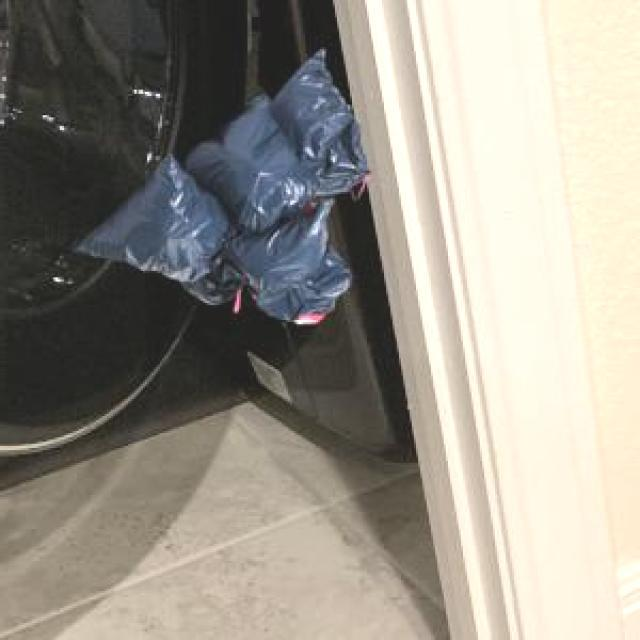Trashbag: (229, 215, 344, 316), (111, 180, 216, 280), (200, 118, 294, 224), (283, 61, 375, 154)
